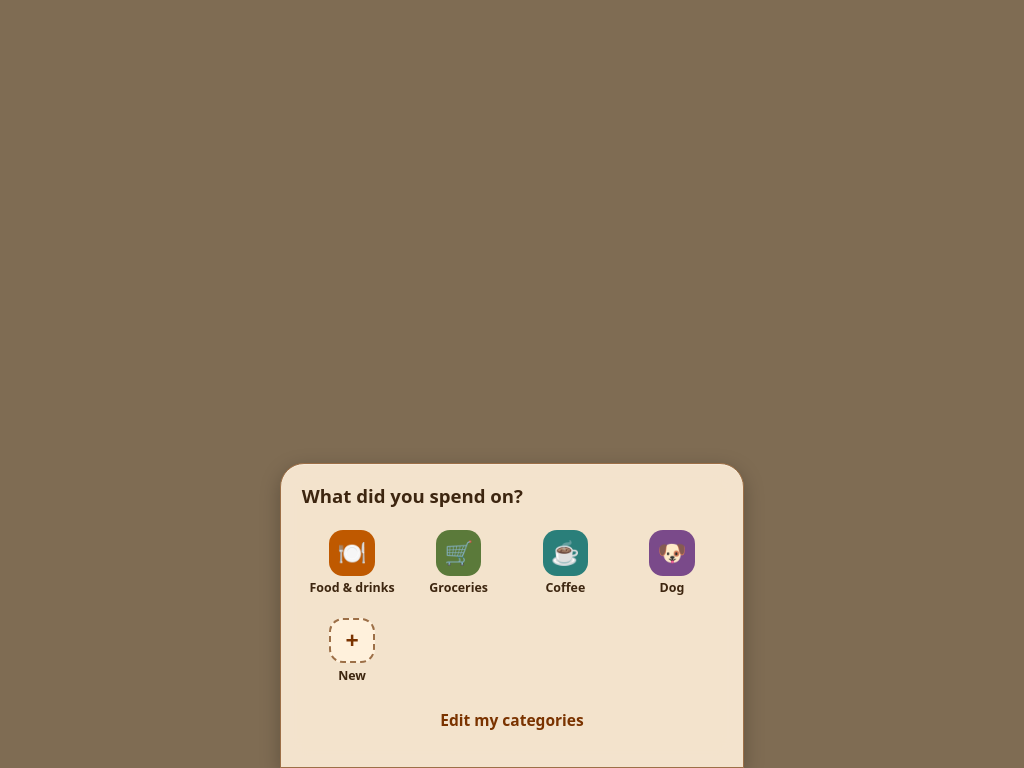
Scenario: PersonalSpendingSheet, refused saves › shows the translated message for PERSONAL_ENTRY_AMOUNT_TOO_LARGE above Save
This screenshot has width=1024, height=768.
Click the button "☕ Coffee" at (565, 563), box [515,524,616,601]
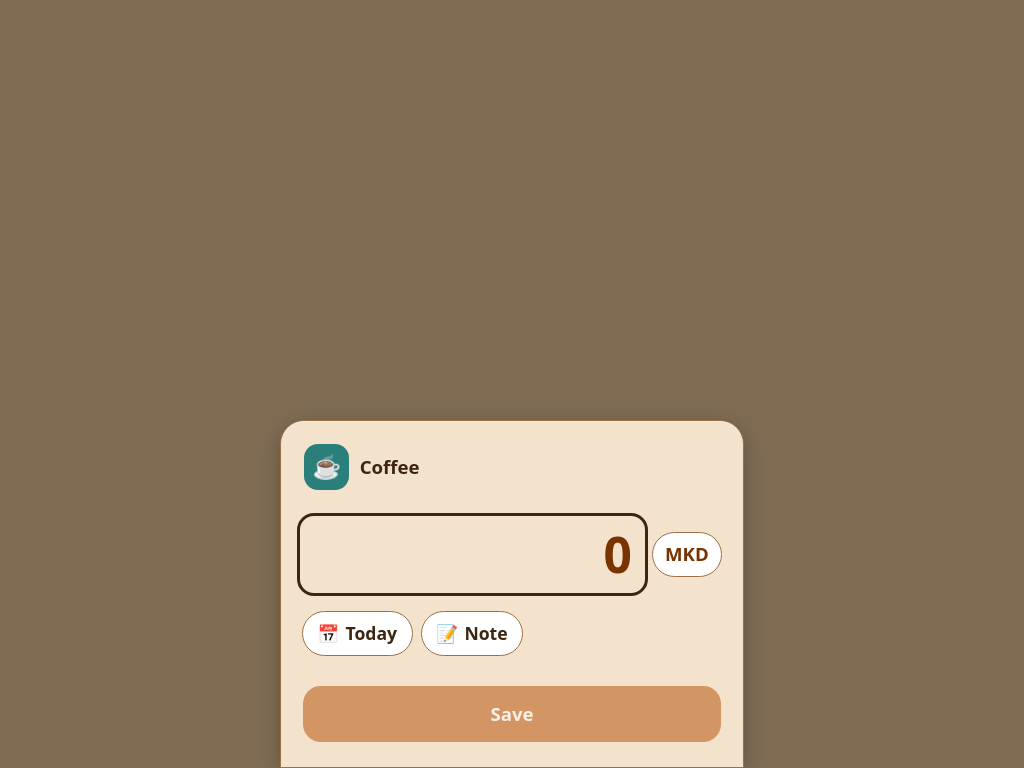
Type "120" into the field named "Amount" at (473, 554), box [300,516,646,592]
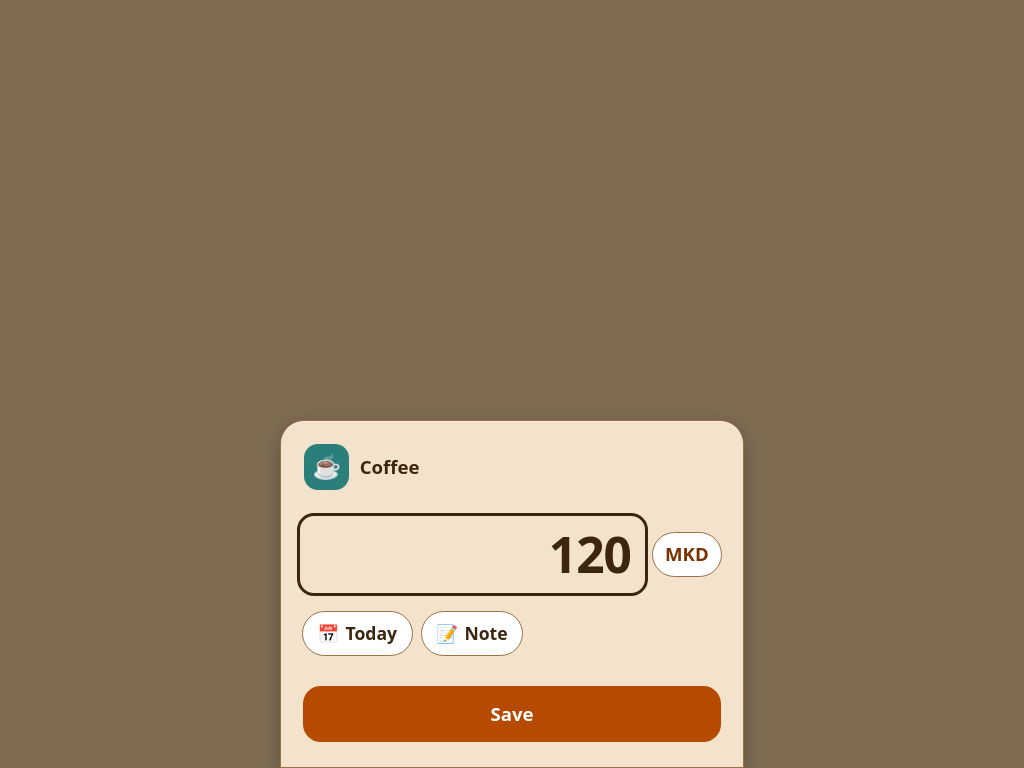
Click the button "📝 Note" at (472, 633), box [421,610,523,656]
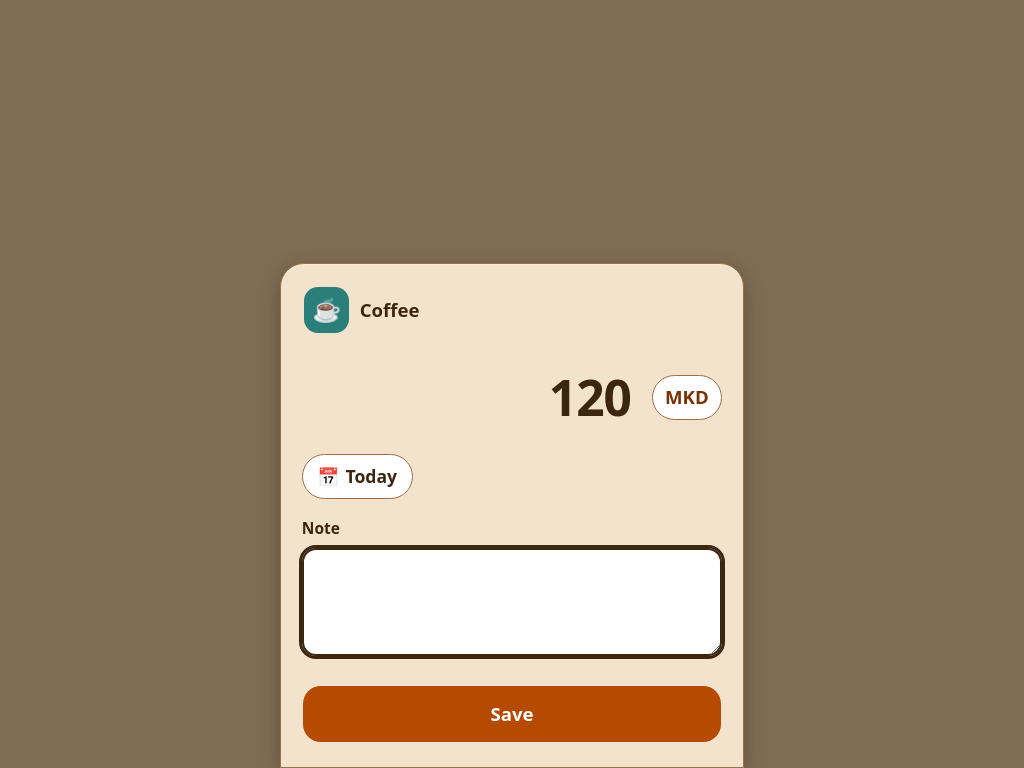
Type "for the office" into the text box labelled "Note" at (512, 602), box [302,548,722,656]
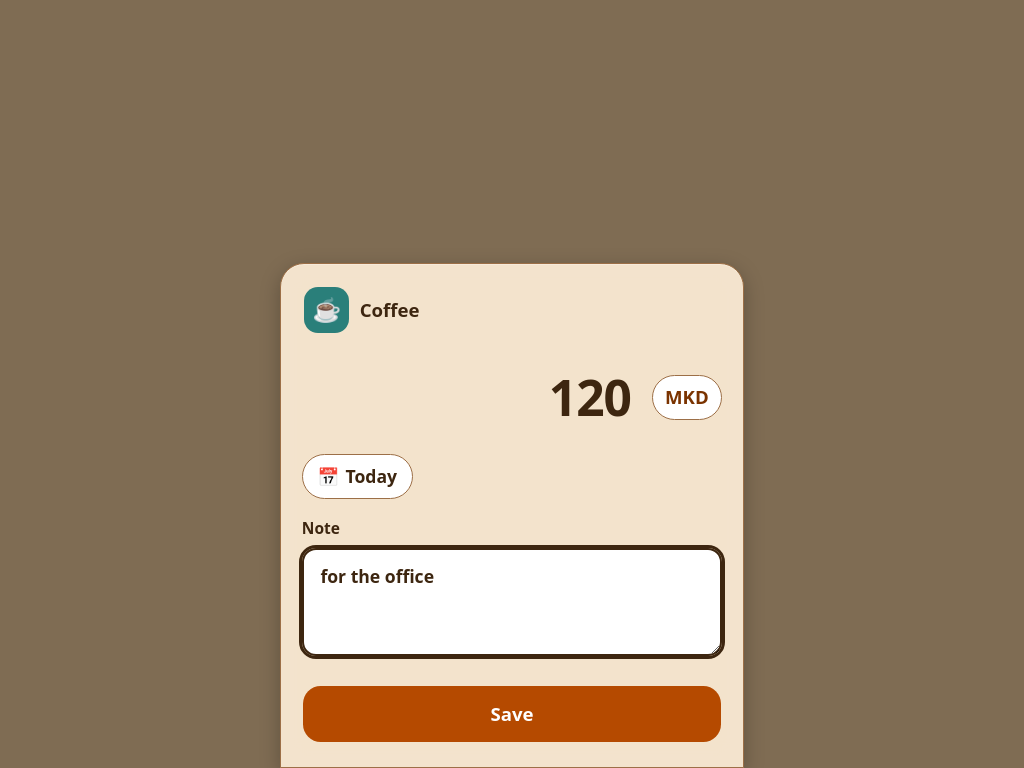
Click the button "Save" at (512, 714), box [302,685,722,743]
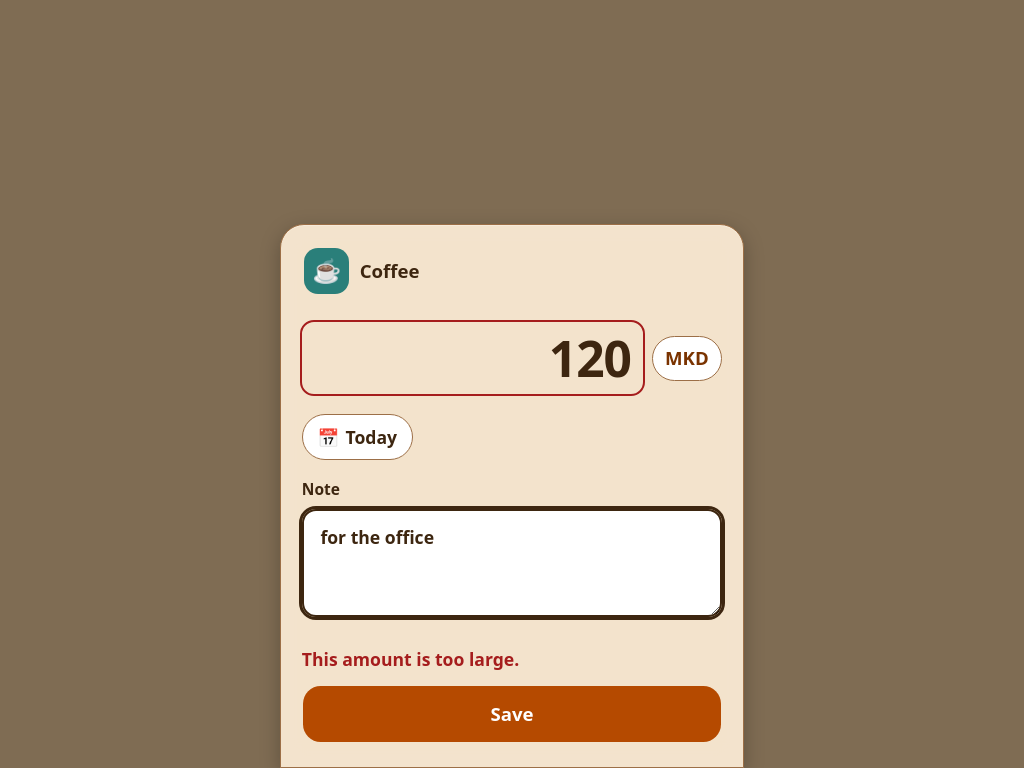
Now the message reads "This amount is too large.", box [302,647,519,671]
